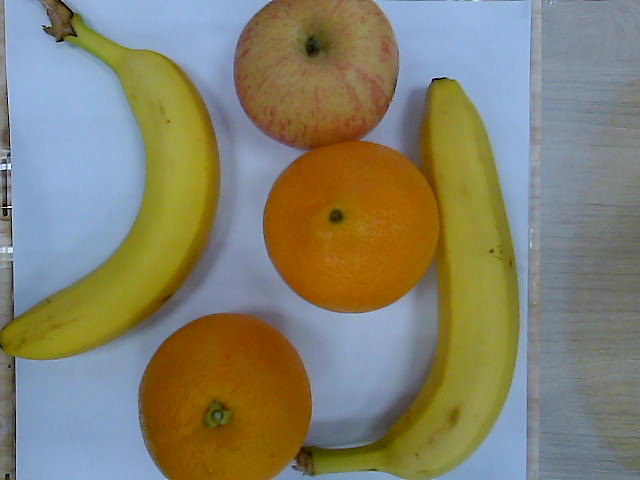fresh_apple: (232, 1, 400, 148)
fresh_banana: (2, 1, 220, 360), (385, 78, 522, 480)
fresh_orange: (262, 140, 441, 313), (138, 314, 312, 480)
